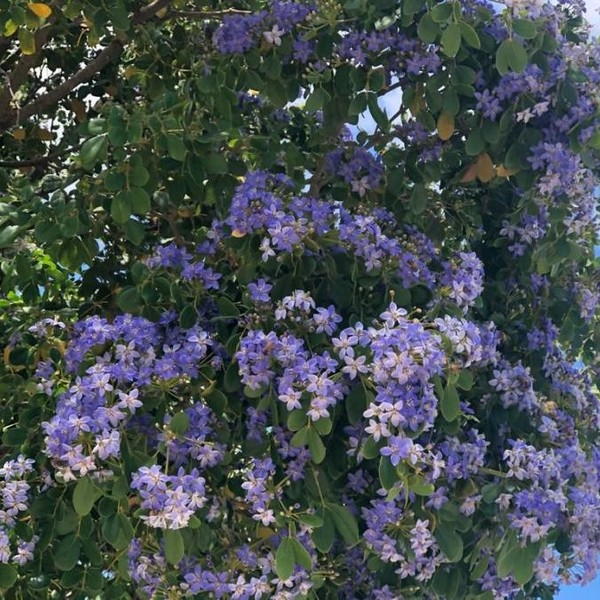obstacle: (42, 277, 543, 577), (238, 141, 535, 292), (71, 85, 237, 215)
